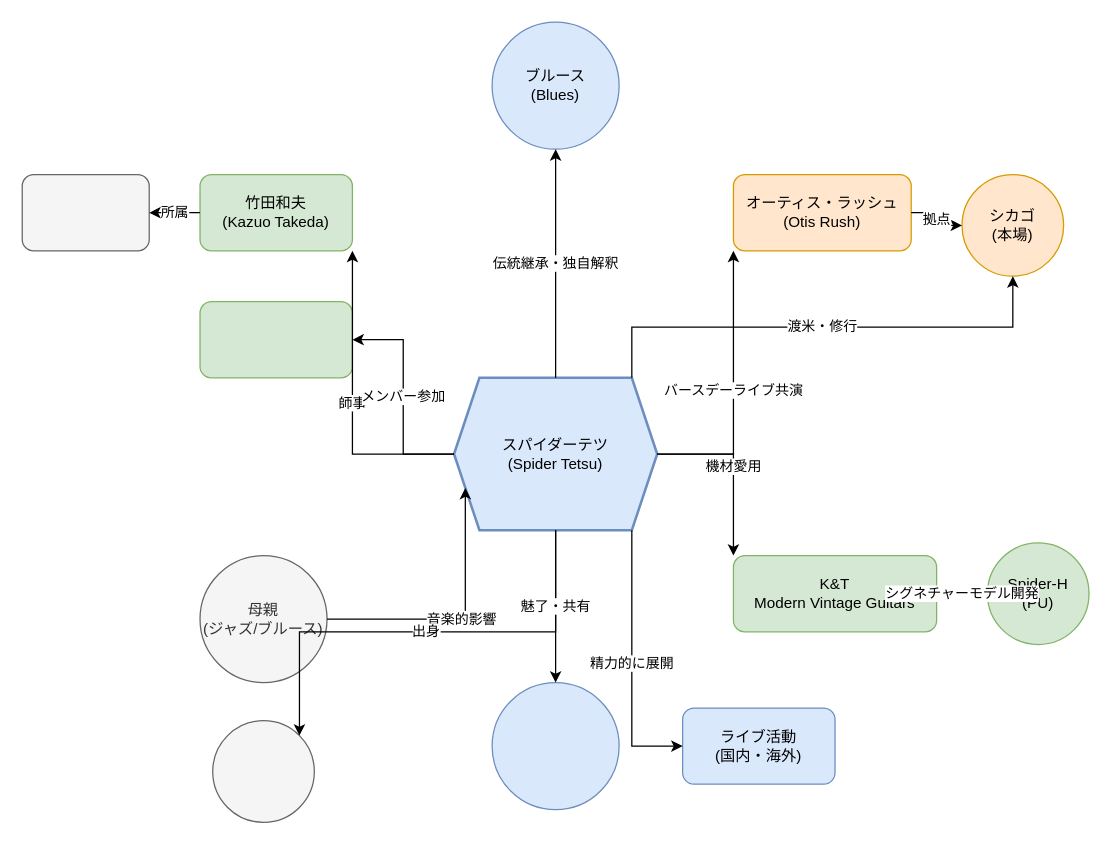
Some shapes in this 1111 by 845 pixel diagram are drawn without their labels. The centre of each missing label's shape, as x and y in pixels:
CREATION: point 85,212
エル・コヨーテス: point 275,339
ファン・関係者: point 555,745
東京下町: point 262,770
